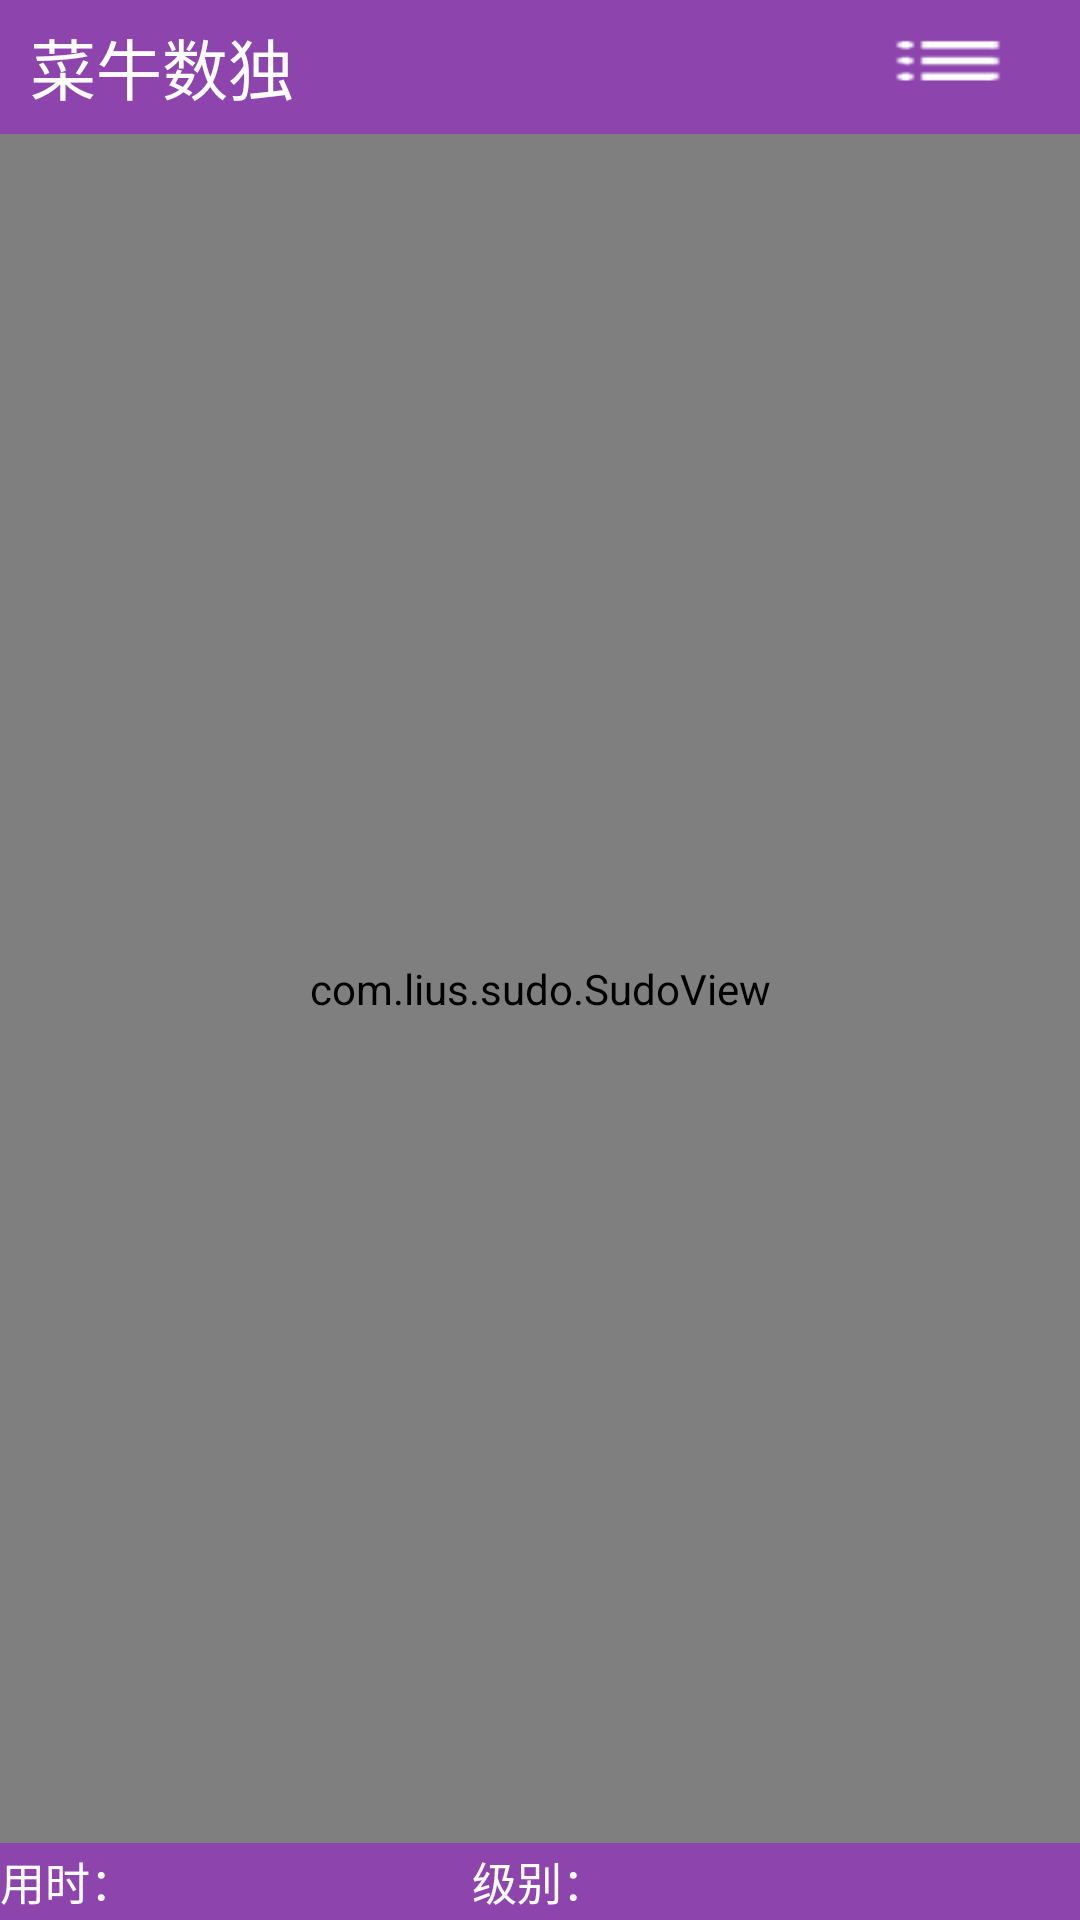

Screen size 1080px x 1920px. Icon name, then its center in pixels as [x,y]:
menu: [948,60]
